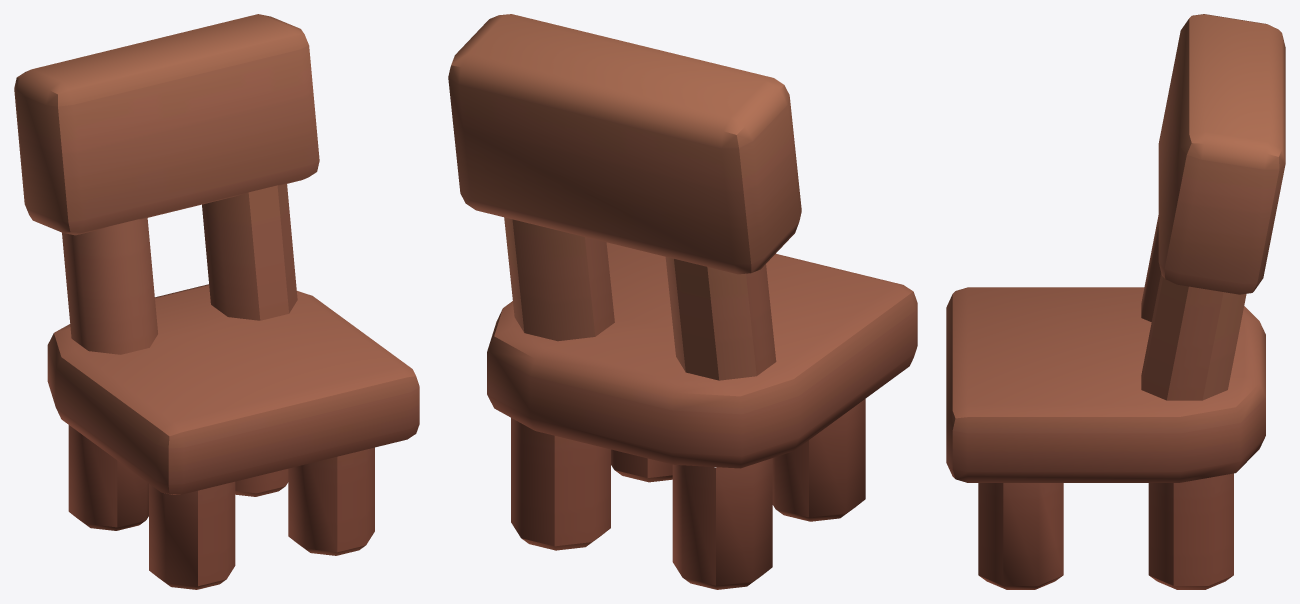
File: chair-b.glb
3 renders of one model, left to right at view 1: azimuth 30°, elevation 25°; view 2: azimuth 150°, elevation 25°; view 3: azimuth 270°, elevation 25°, orthographic. The views are drawn at different scales.
Visible parts, largest first — view 1: chair_B; view 2: chair_B; view 3: chair_B.
Part boxes in pixels (x1,y1,x2,y2): chair_B: (14, 14, 419, 589); chair_B: (448, 14, 917, 589); chair_B: (946, 14, 1285, 589).
Bounding box in the file's own units: 0.75 × 1.21 × 0.7963.
1 material, 1 textured.
